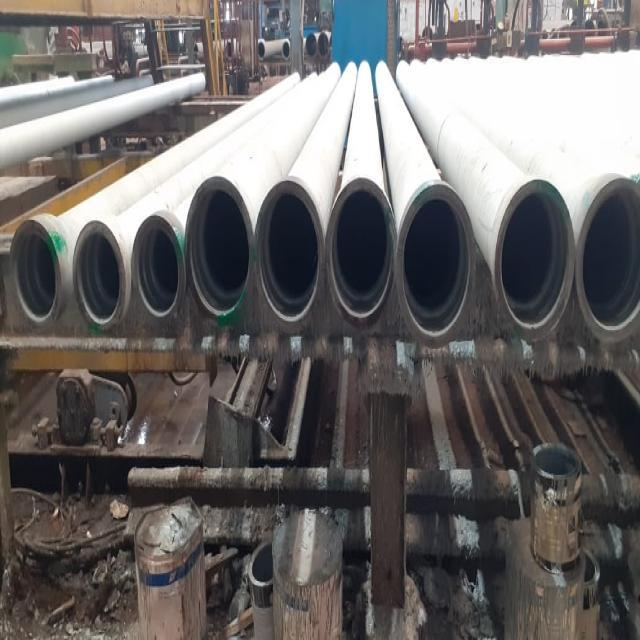pipe: (404, 191, 472, 349), (499, 191, 572, 338), (258, 191, 322, 330), (586, 182, 640, 337), (190, 190, 252, 323), (334, 185, 394, 318), (9, 219, 63, 323), (73, 222, 124, 332), (133, 221, 181, 328)
